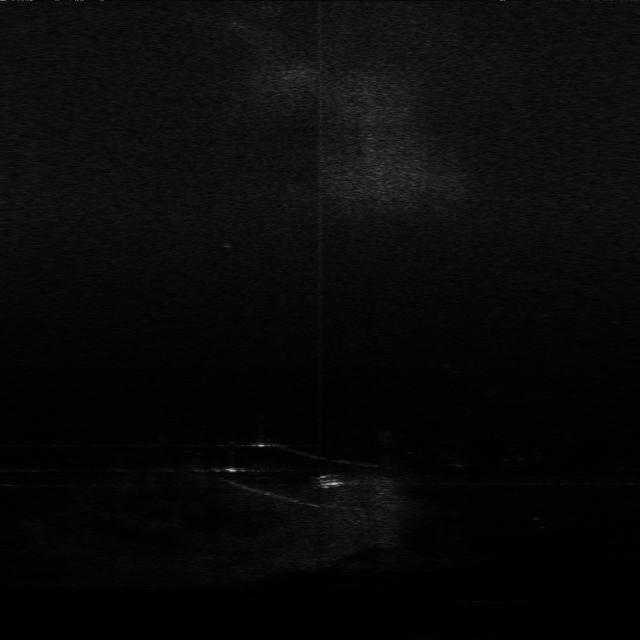rov: (316, 472, 346, 489)
